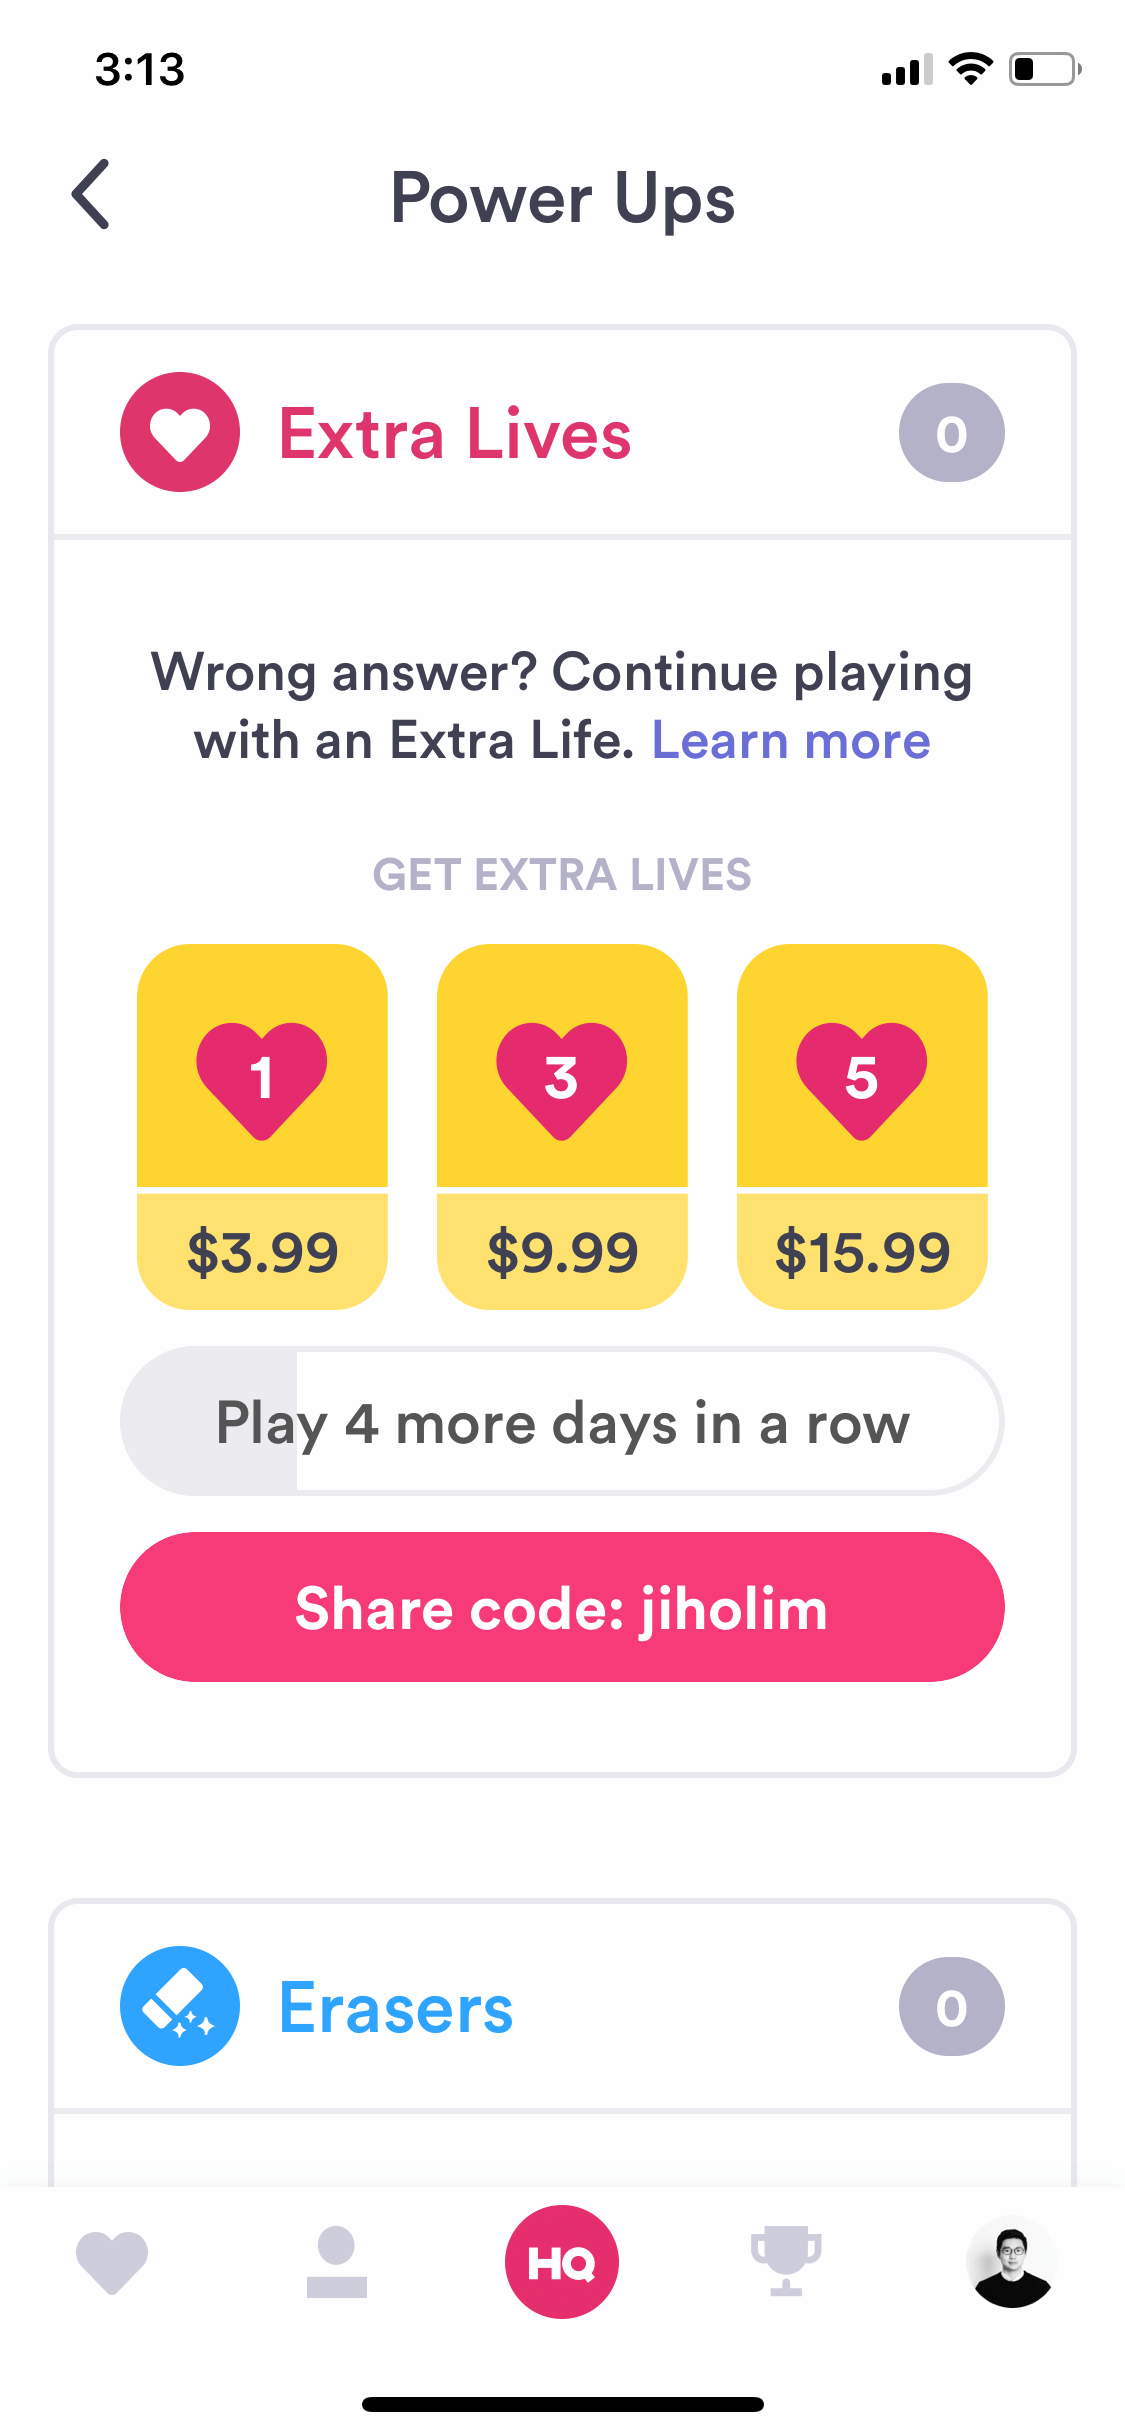Buttons: (107, 1513, 1033, 1704), (26, 130, 149, 253)
